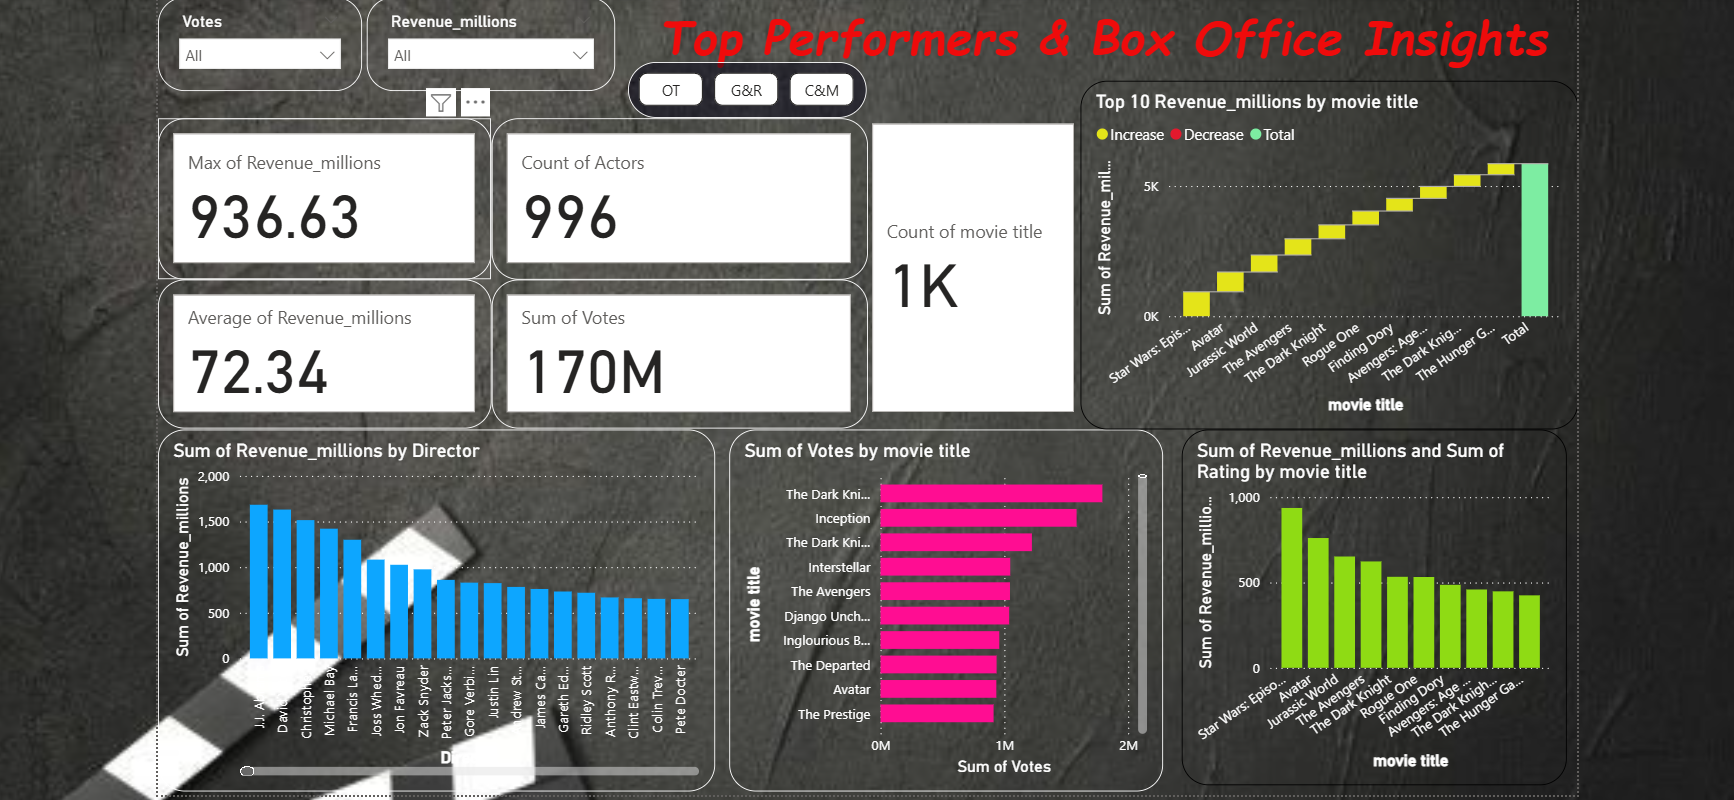

The dashboard page shown, as its layout file describes it:
{"tool":"powerbi","page":{"name":"P&B","canvas":[1280,720],"ordinal":2},"visuals":[{"type":"textbox","box":[425.4,0,854.9,90.6],"z":0},{"type":"clusteredColumnChart","fields":{"Y":["IMDB-Movie-Data.Revenue_millions"],"Category":["IMDB-Movie-Data.Director"]},"box":[0,389.7,502.2,326.6],"z":1000},{"type":"barChart","fields":{"Y":["IMDB-Movie-Data.Votes"],"Category":["IMDB-Movie-Data.movie title"]},"box":[514.6,389.7,391.1,326.6],"z":2000},{"type":"waterfallChart","title":"Top 10 Revenue_millions by movie title","fields":{"Y":["IMDB-Movie-Data.Revenue_millions"],"Category":["IMDB-Movie-Data.movie title"]},"box":[831.6,75.5,448.7,314.2],"z":3000},{"type":"lineClusteredColumnComboChart","fields":{"Category":["IMDB-Movie-Data.movie title"],"Y":["IMDB-Movie-Data.Revenue_millions"]},"box":[923.5,389.7,347.2,321.1],"z":4000},{"type":"cardVisual","fields":{"Data":["IMDB-Movie-Data.Revenue_millions"]},"box":[0,109.8,300.5,145.5],"z":5000},{"type":"cardVisual","fields":{"Data":["IMDB-Movie-Data.Revenue_millions"]},"box":[0,255.2,300.5,134.5],"z":6000},{"type":"cardVisual","fields":{"Data":["IMDB-Movie-Data.Actors"]},"box":[300.5,109.8,338.9,145.5],"z":7000},{"type":"cardVisual","fields":{"Data":["IMDB-Movie-Data.Votes"]},"box":[300.5,255.2,338.9,134.5],"z":8000},{"type":"cardVisual","fields":{"Data":["IMDB-Movie-Data.movie title"]},"box":[639.5,109.8,192.1,270.3],"z":9000},{"type":"slicer","fields":{"Values":["IMDB-Movie-Data.Revenue_millions"]},"box":[188,0,223.7,85.1],"z":10000},{"type":"slicer","fields":{"Values":["IMDB-Movie-Data.Votes"]},"box":[0,0,183.9,85.1],"z":11000},{"type":"pageNavigator","box":[424,59,215.4,50.8],"z":12000}]}

Visuals, with their boxes on the page's 1280x720 design canvas (x1, y1, x2, y2). These are canvas units, not pixel positions in the 1734x800 screenshot, which may show the page scaled, cropped or inside an application window:
textbox: box(425, 0, 1280, 91)
clusteredColumnChart - IMDB-Movie-Data.Revenue_millions x IMDB-Movie-Data.Director: box(0, 390, 502, 716)
barChart - IMDB-Movie-Data.Votes x IMDB-Movie-Data.movie title: box(515, 390, 906, 716)
"Top 10 Revenue_millions by movie title" waterfallChart: box(832, 76, 1280, 390)
lineClusteredColumnComboChart - IMDB-Movie-Data.movie title x IMDB-Movie-Data.Revenue_millions: box(924, 390, 1271, 711)
cardVisual - IMDB-Movie-Data.Revenue_millions: box(0, 110, 300, 255)
cardVisual - IMDB-Movie-Data.Revenue_millions: box(0, 255, 300, 390)
cardVisual - IMDB-Movie-Data.Actors: box(300, 110, 639, 255)
cardVisual - IMDB-Movie-Data.Votes: box(300, 255, 639, 390)
cardVisual - IMDB-Movie-Data.movie title: box(640, 110, 832, 380)
slicer - IMDB-Movie-Data.Revenue_millions: box(188, 0, 412, 85)
slicer - IMDB-Movie-Data.Votes: box(0, 0, 184, 85)
pageNavigator: box(424, 59, 639, 110)
